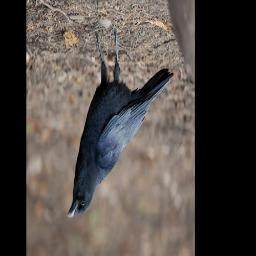Crow: (65, 22, 173, 219)
